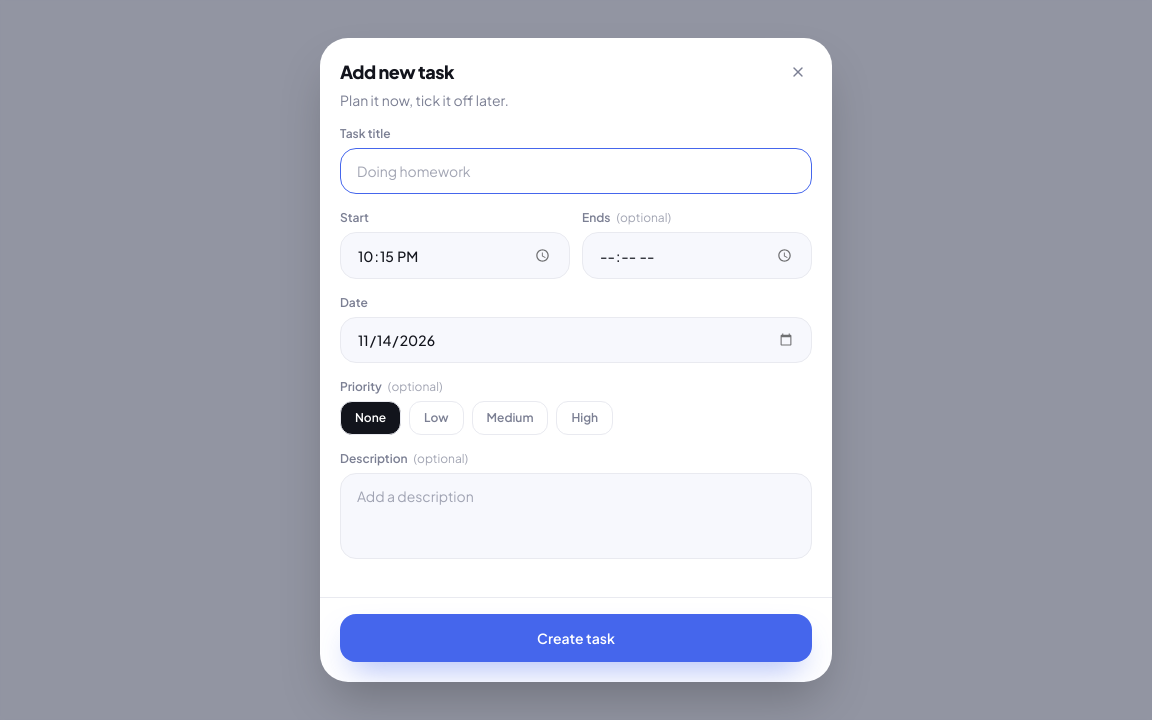
TaskFormSheet › blocks submission when the title is empty
This screenshot has width=1152, height=720.
Step 1. Click the button "Create task" → [576, 638], box x1=340 y1=614 x2=812 y2=662
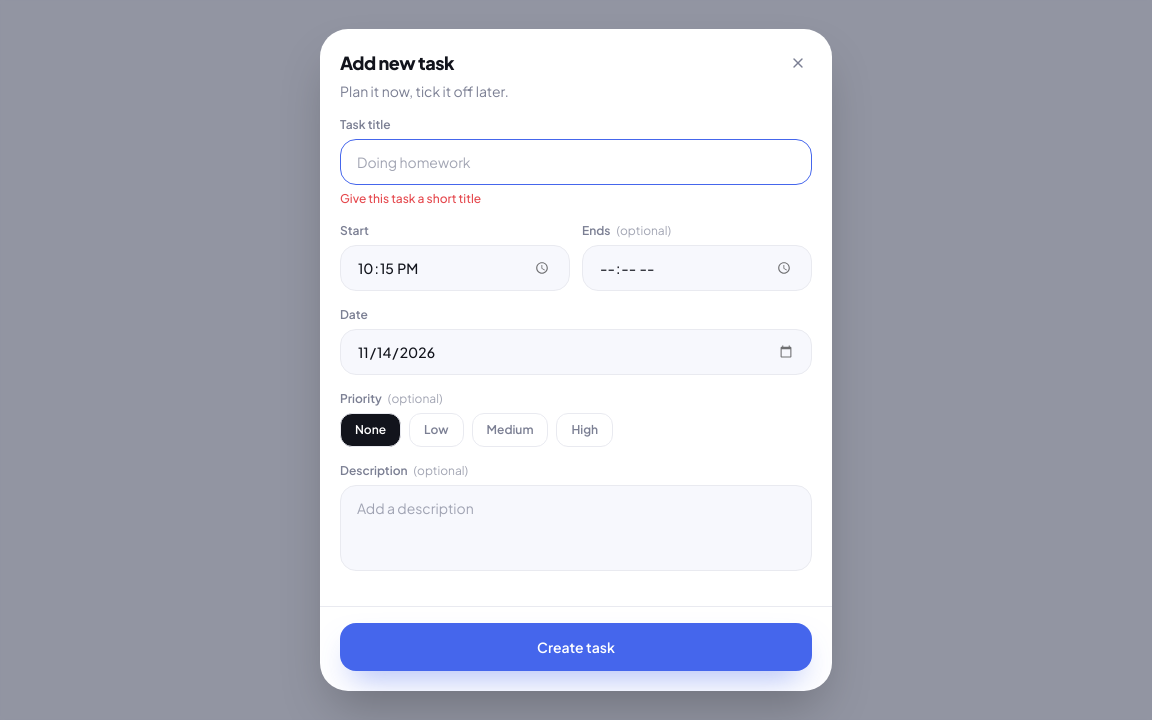
Expected: the text "Give this task a short title" is shown, x1=340 y1=191 x2=481 y2=206
